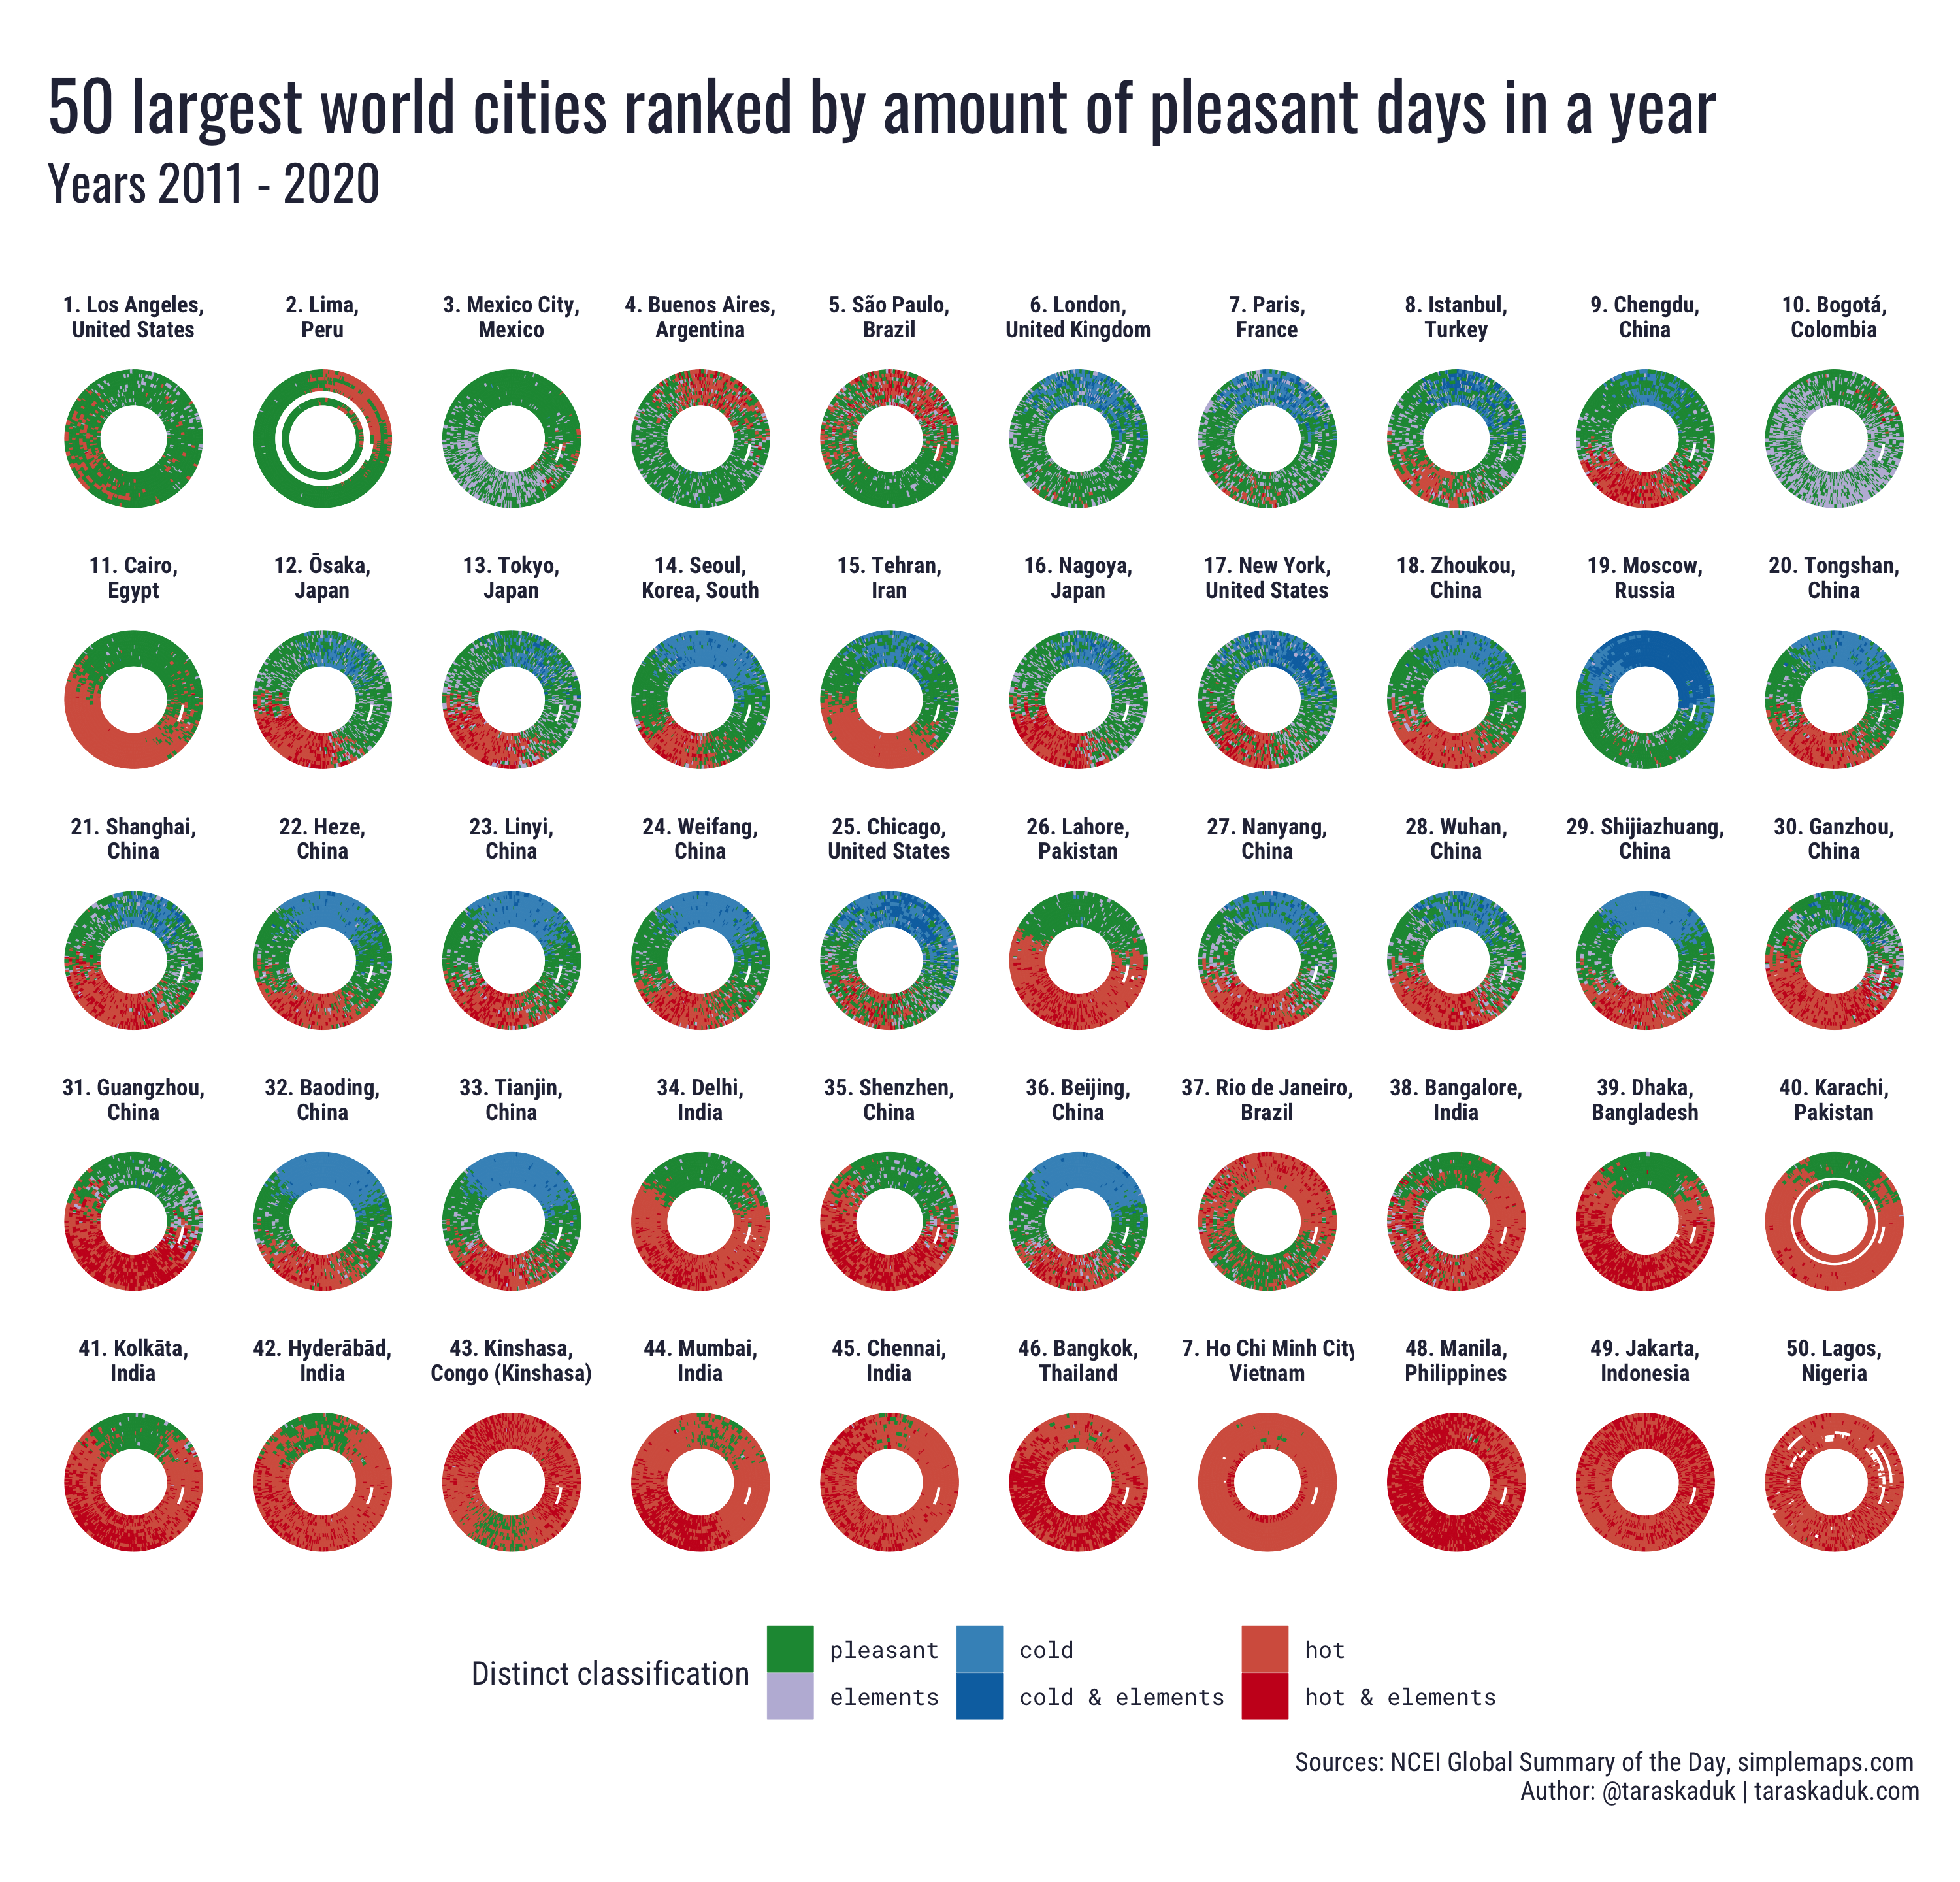

This screenshot's page, from the dashboard's own definition file:
{"tool":"tableau","page":{"name":"Radial Stack Bar Charts","canvas":[900,800],"ordinal":0},"visuals":[{"type":"worksheet","title":"radial stacked bar","mark":"Polygon","box":[0,0,796,800]},{"type":"legend","title":"radial stacked bar","param":"[federated.0d4brrl0id6ggj1ffol9q0xiccq4].[none:Calculation_4518799278402621453:n","box":[796,0,104,90]},{"type":"parameter","param":"[Parameters].[Parameter 4]","box":[796,90,104,52]},{"type":"parameter","param":"[Parameters].[Parameter 1]","box":[796,142,104,52]},{"type":"parameter","param":"[Parameters].[Parameter 2]","box":[796,194,104,52]},{"type":"parameter","param":"[Parameters].[Parameter 3]","box":[796,246,104,52]},{"type":"worksheet","title":"social","mark":"Shape","cols":["Platform"],"box":[840,770,60,30]}]}

Visuals, with their boxes on the page's 900x800 design canvas (x1, y1, x2, y2). These are canvas units, not pixel positions in the 1960x1882 screenshot, which may show the page scaled, cropped or inside an application window:
"radial stacked bar" worksheet (Polygon marks): [x1=0, y1=0, x2=796, y2=800]
"radial stacked bar" legend: [x1=796, y1=0, x2=900, y2=90]
parameter: [x1=796, y1=90, x2=900, y2=142]
parameter: [x1=796, y1=142, x2=900, y2=194]
parameter: [x1=796, y1=194, x2=900, y2=246]
parameter: [x1=796, y1=246, x2=900, y2=298]
"social" worksheet (Shape marks): [x1=840, y1=770, x2=900, y2=800]
